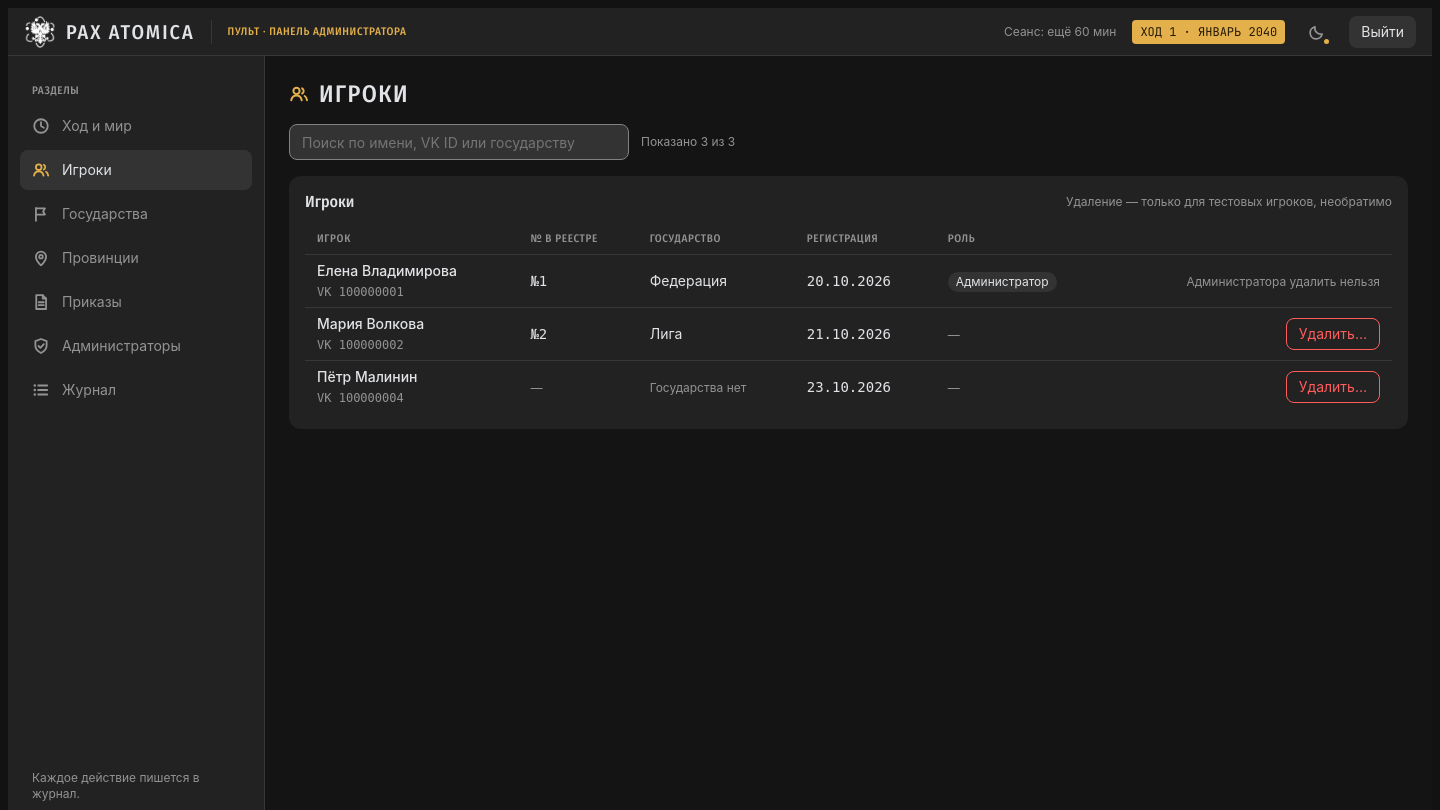
Test: «Удалить игрока» stays disabled until the exact VK id is typed
Expected: the table with test id "players-table" is shown, [305, 224, 1392, 413]
Step 1. Click the button with test id "delete-100000002" → (1333, 334), box [1286, 318, 1380, 350]
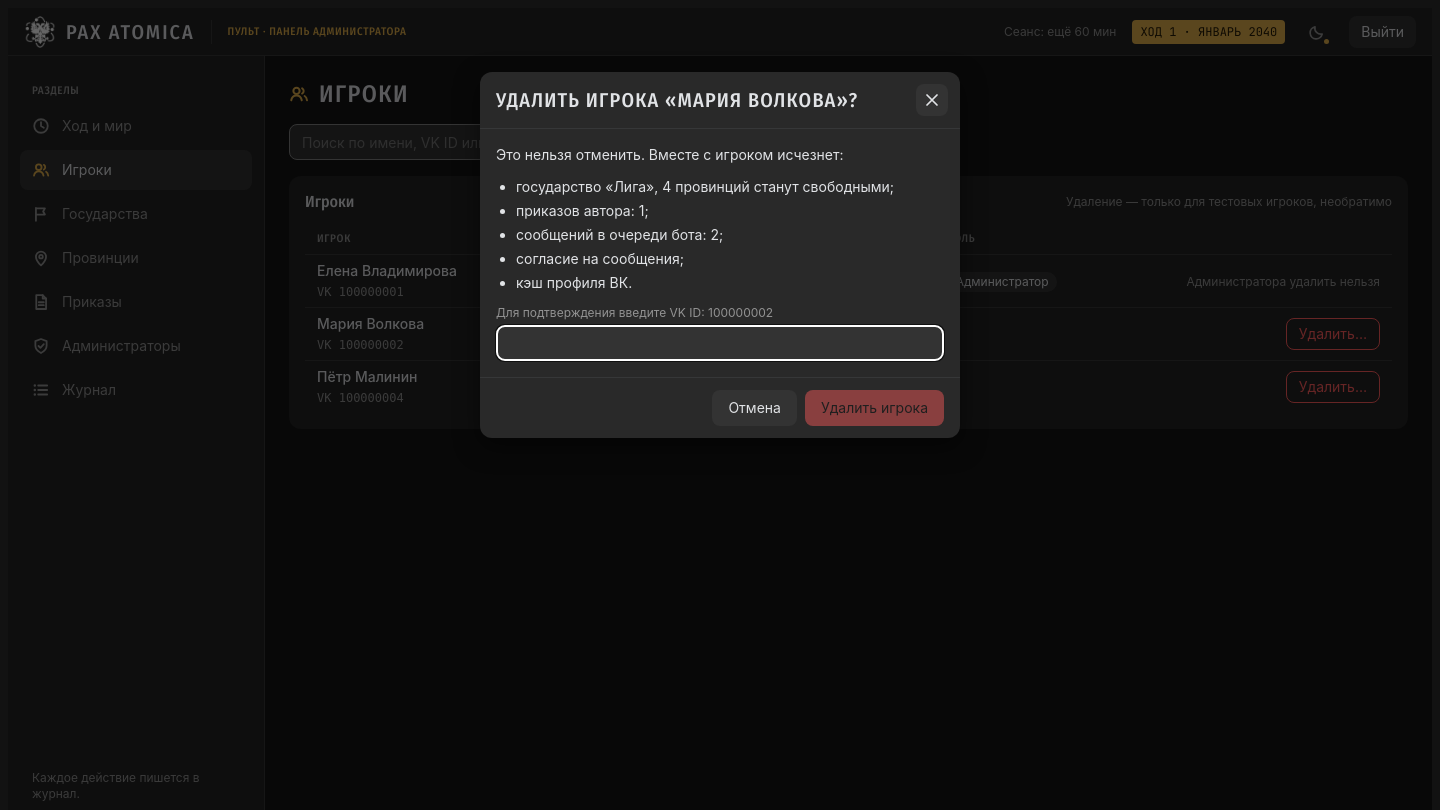
Now the dialog with test id "player-delete-popup" is shown, box [480, 72, 960, 438]
Now the list with test id "player-delete-consequences" is shown, box [516, 178, 894, 291]
Now the button with test id "confirm-player-delete" is disabled, box [805, 390, 944, 426]
Note: A prefix — still not the exact id.
Step 2. Type "10000000" into the field labelled "Для подтверждения введите VK ID: 100000002" → (720, 343), box [496, 325, 944, 361]
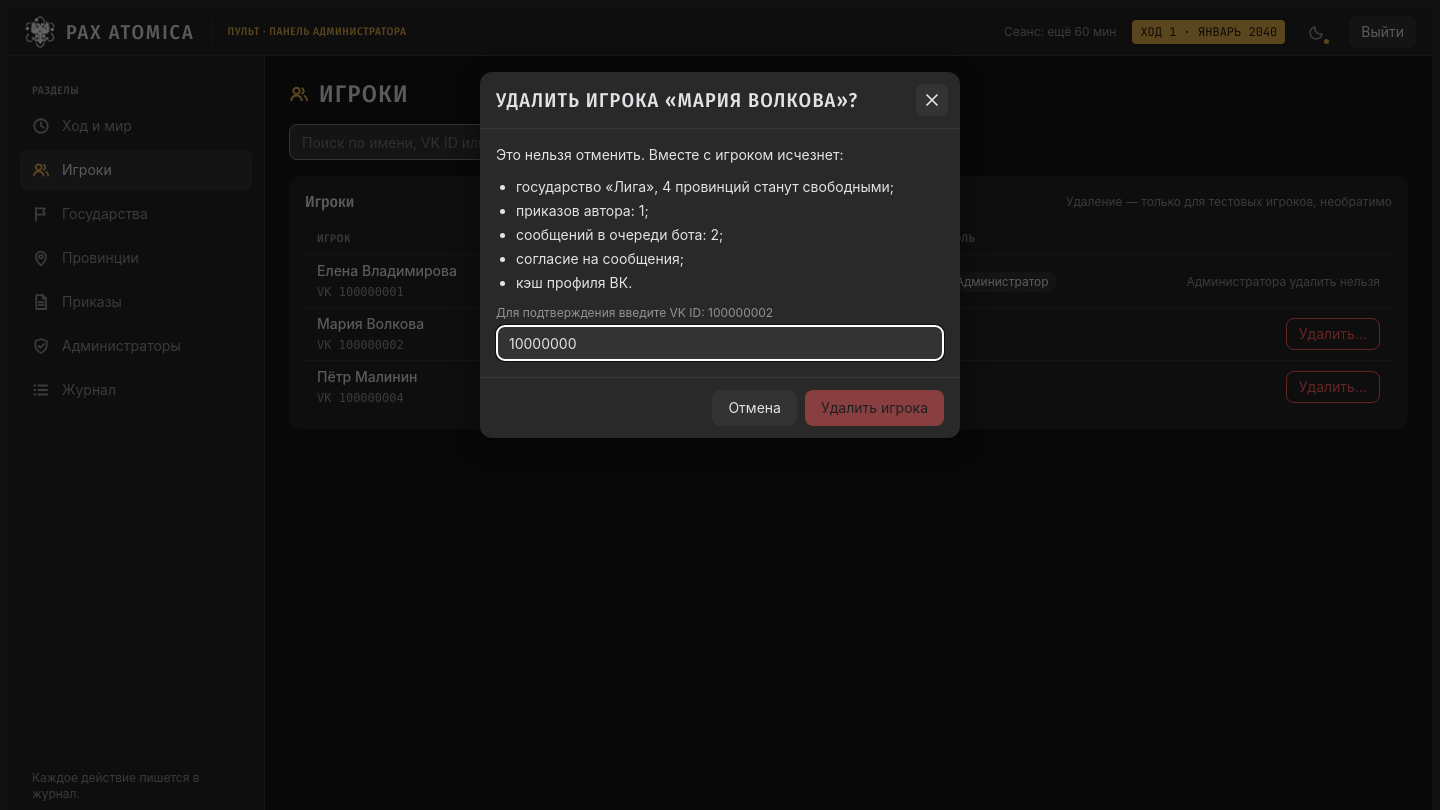
Now the button with test id "confirm-player-delete" is disabled, box [805, 390, 944, 426]
Note: A different id — still not it.
Step 3. Replace the text in the field labelled "Для подтверждения введите VK ID: 100000002" with "100000003" → (720, 343), box [496, 325, 944, 361]
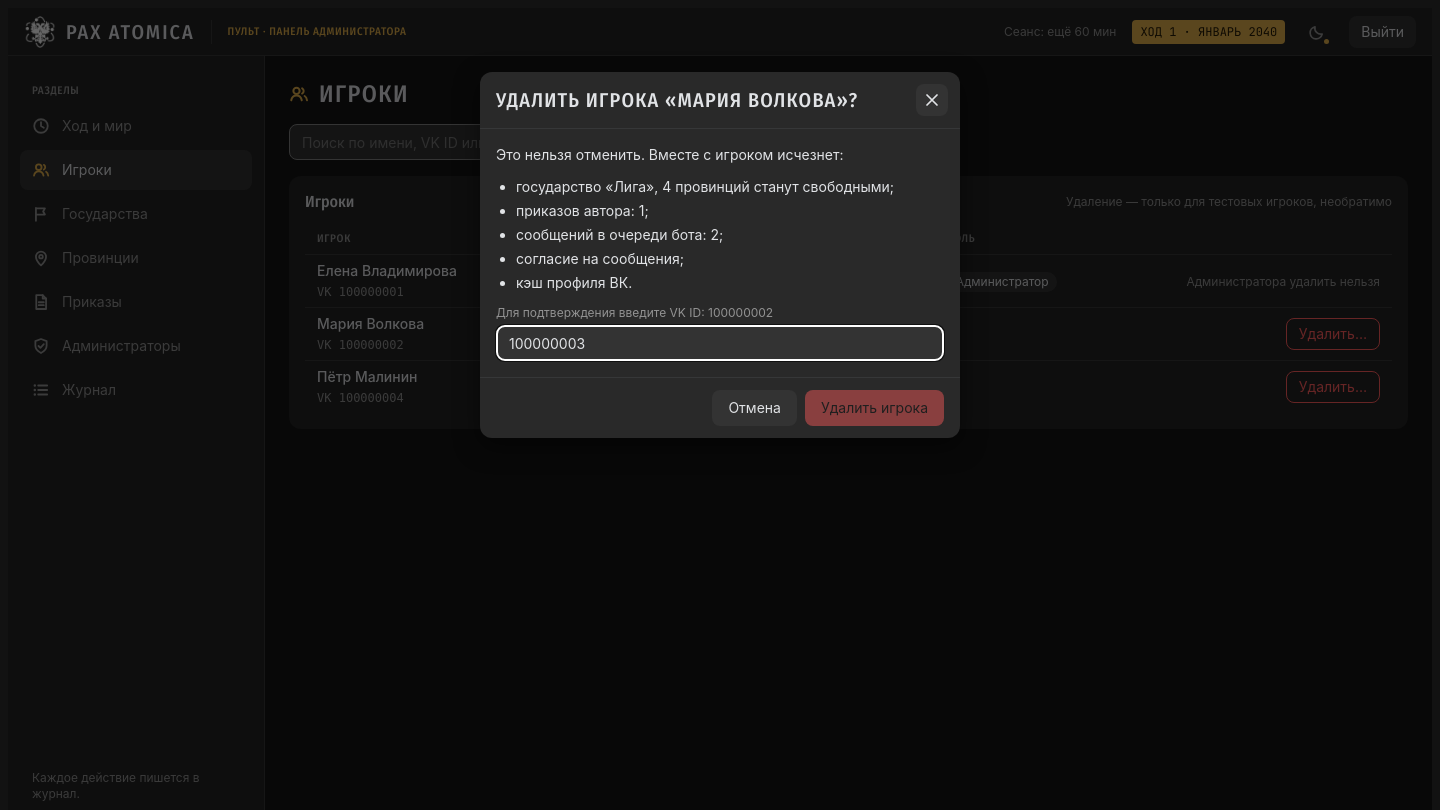
Now the button with test id "confirm-player-delete" is disabled, box [805, 390, 944, 426]
Step 4. Replace the text in the field labelled "Для подтверждения введите VK ID: 100000002" with "100000002" → (720, 343), box [496, 325, 944, 361]
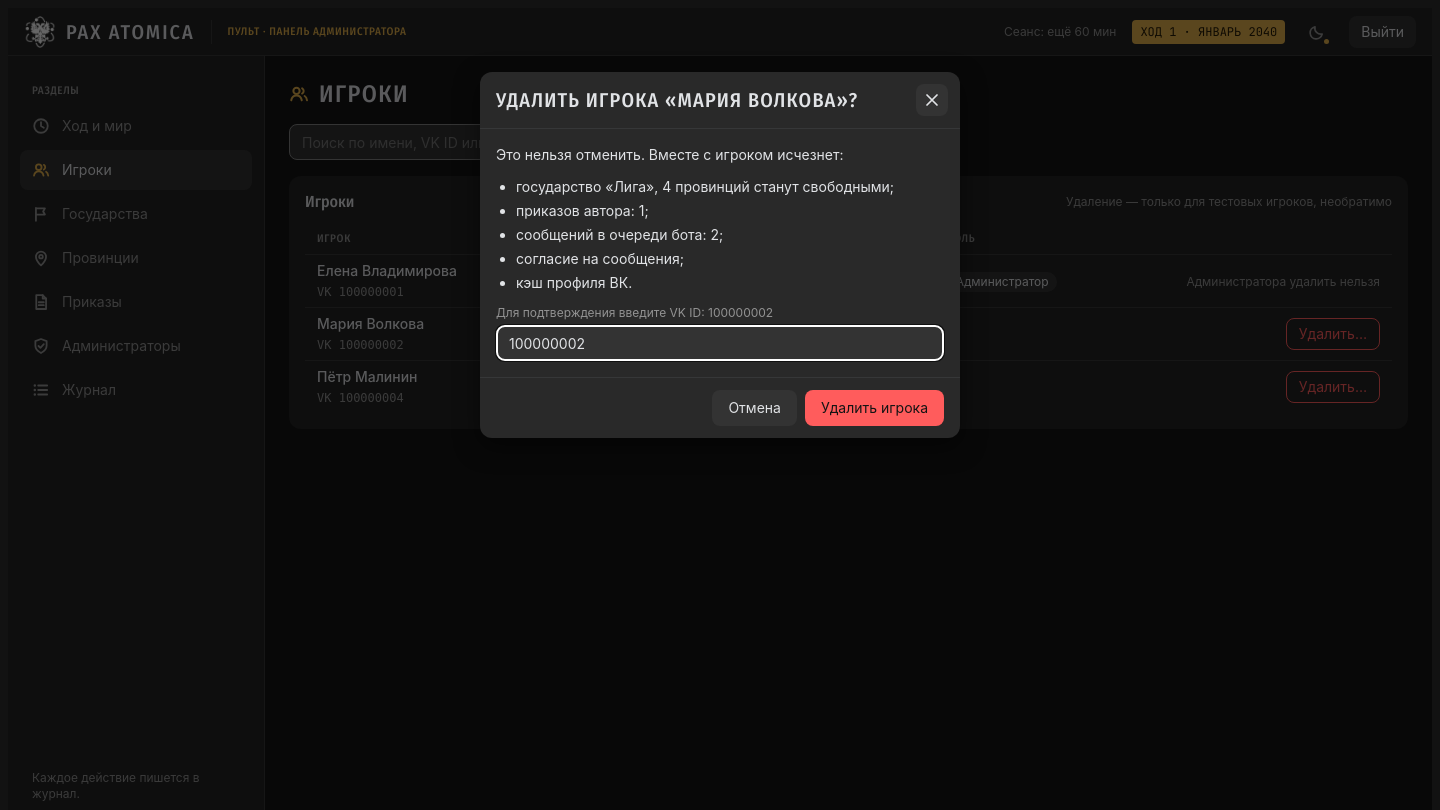
Now the button with test id "confirm-player-delete" is enabled, box [805, 390, 944, 426]
